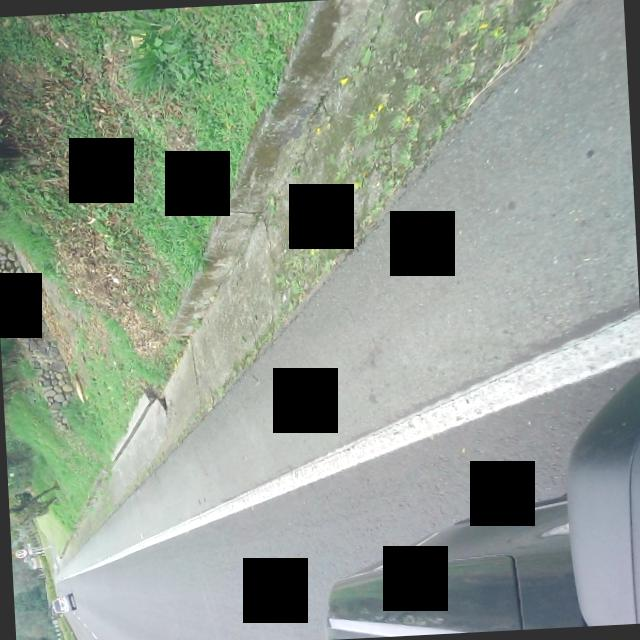DITCH: (21, 0, 617, 572)
